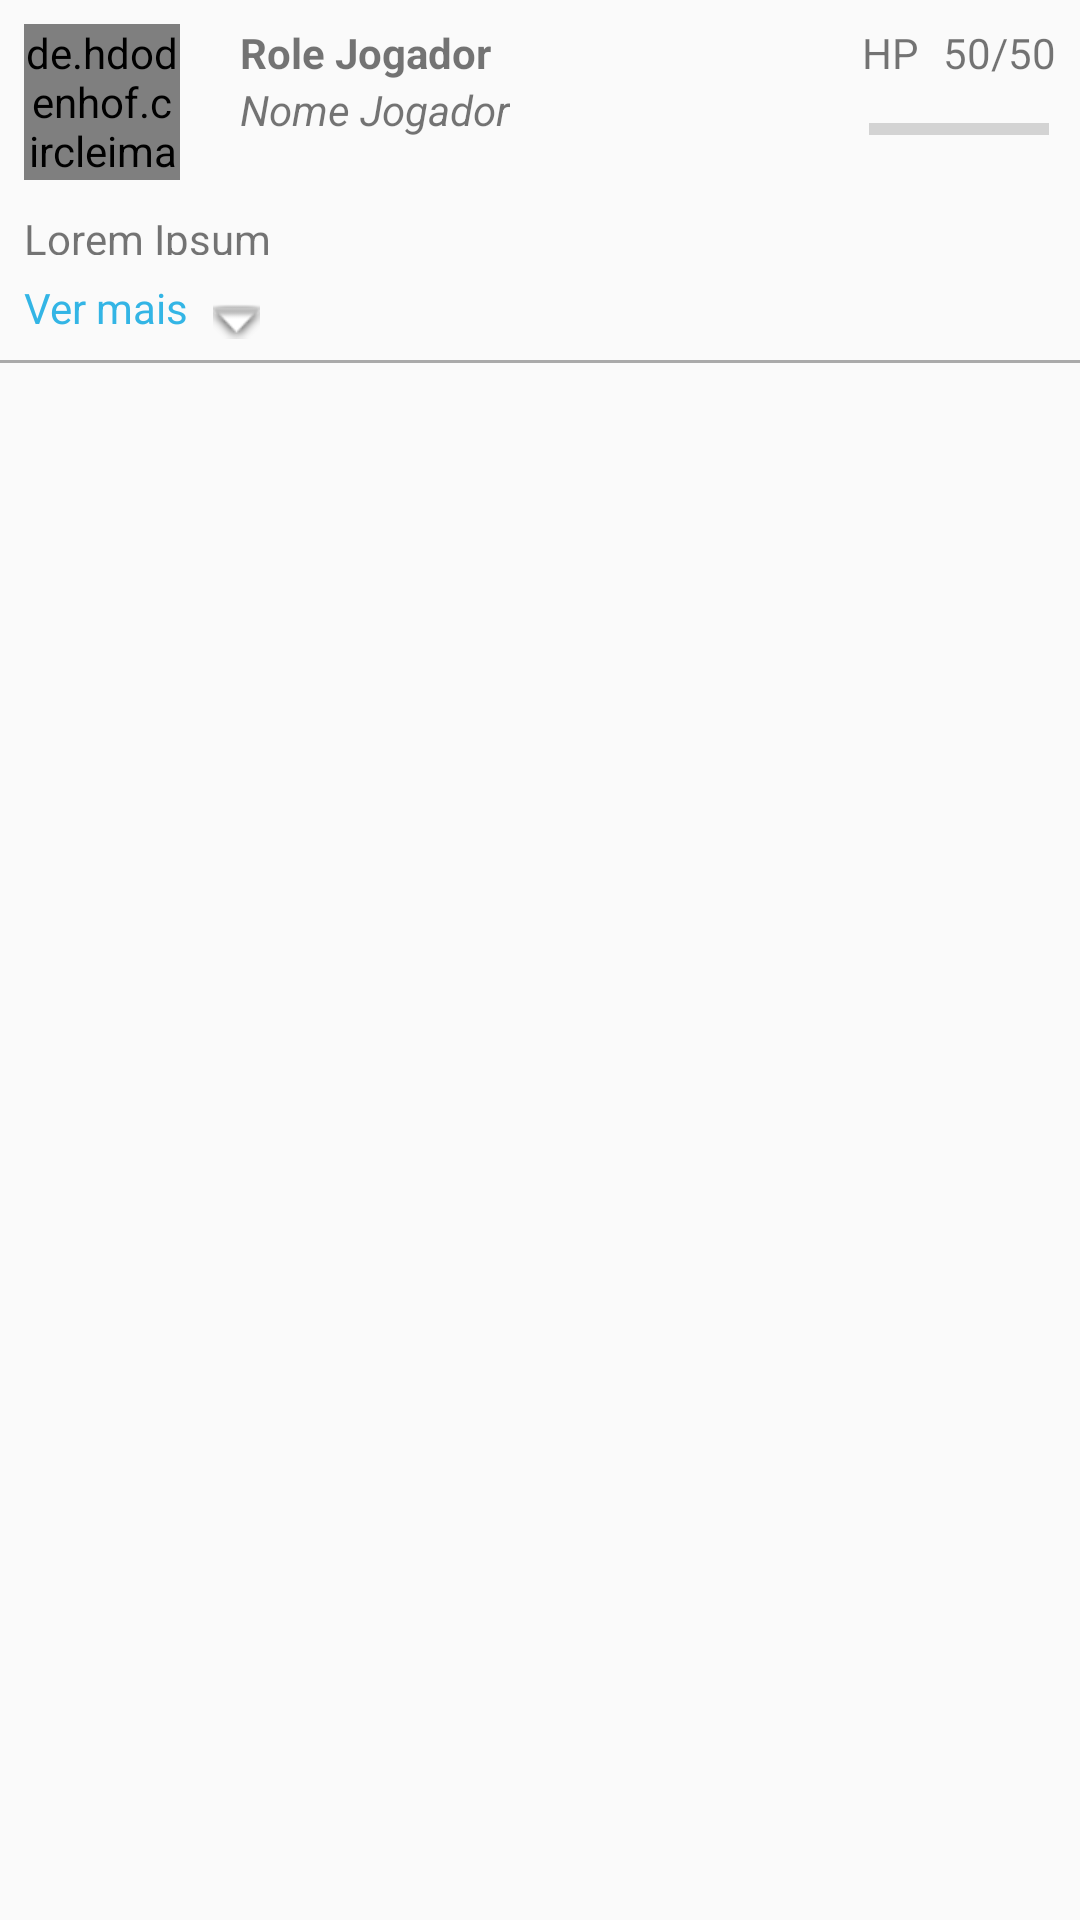

Icon bounding boxes for this 1080x1920 phone screenshot, format bbox(x1, y1, x2, y2):
arrow down float: bbox(213, 305, 260, 337)
